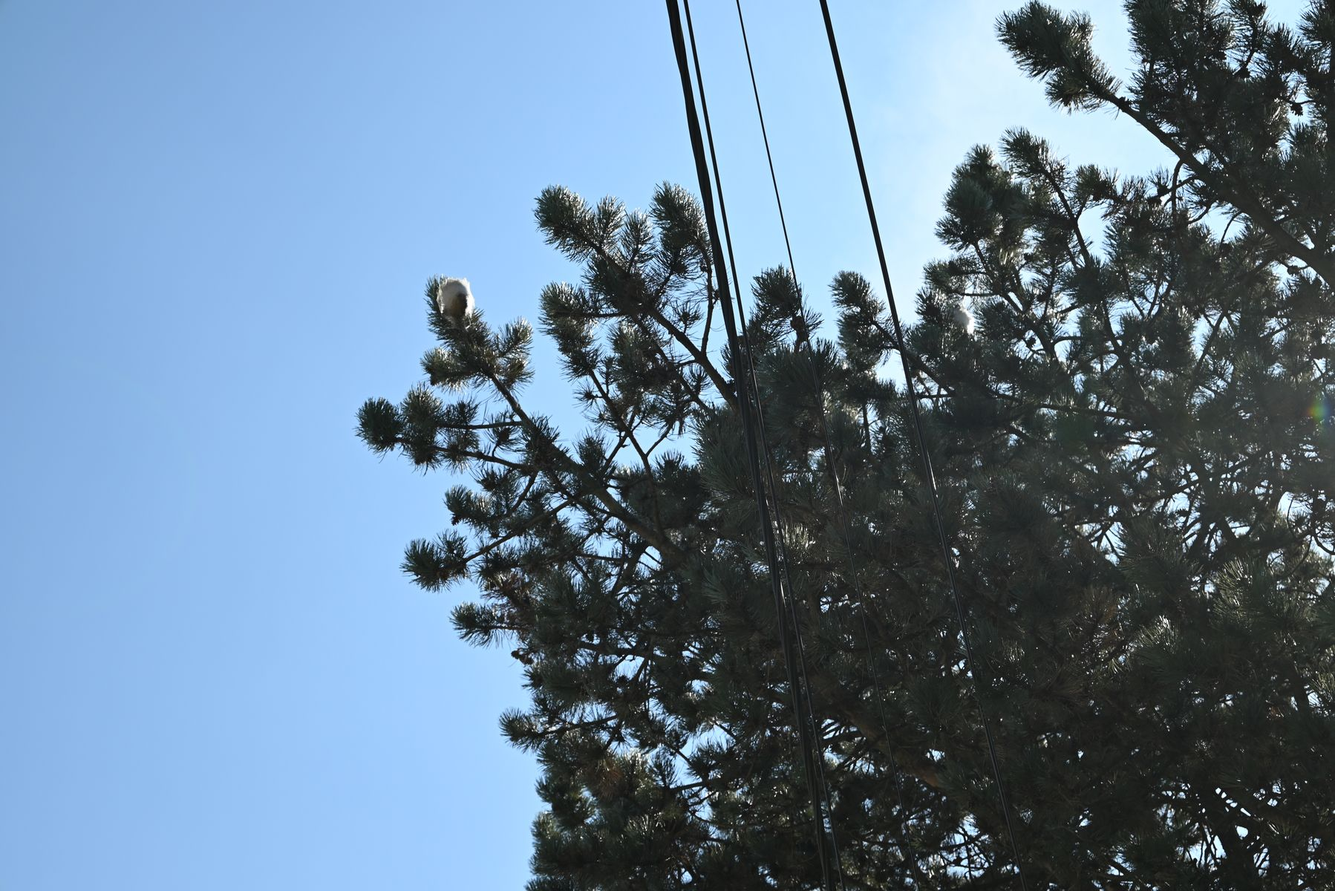thaumatopoea pityocampa jajno gnijezdo: (433, 274, 480, 331), (949, 303, 975, 335)
